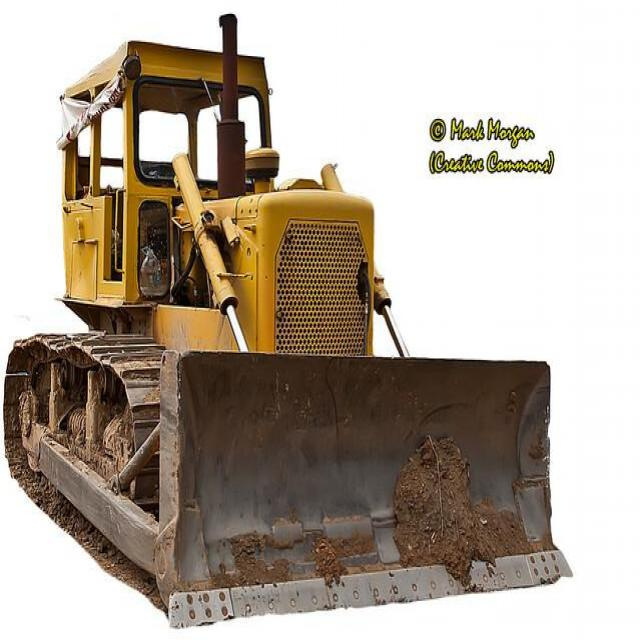Bulldozer: (8, 24, 576, 623)
